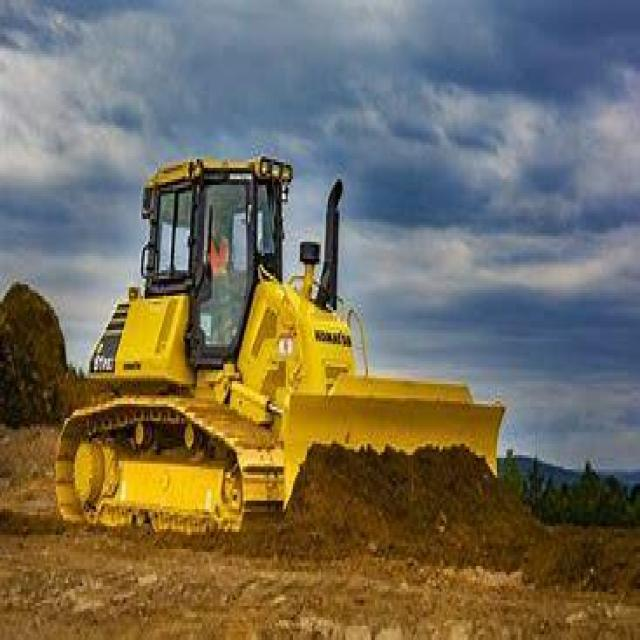Bulldozer: (49, 136, 513, 569)
